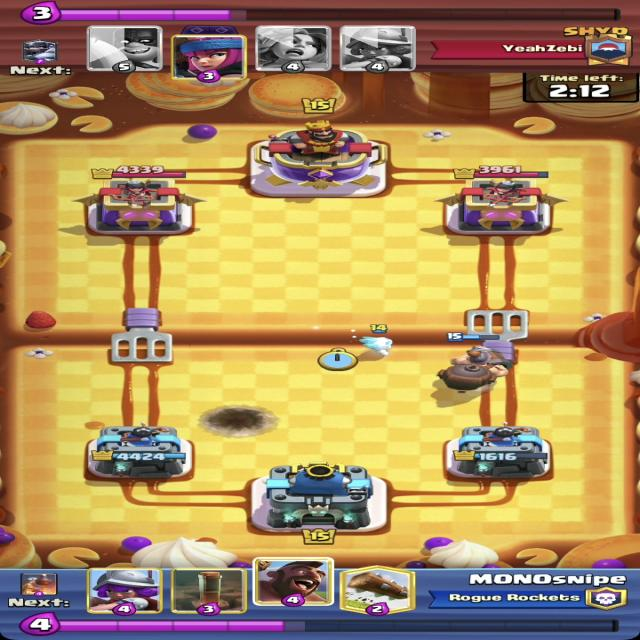Player-IceSpirit: (357, 324, 401, 358)
Player-MightyMiner: (431, 333, 514, 392)
